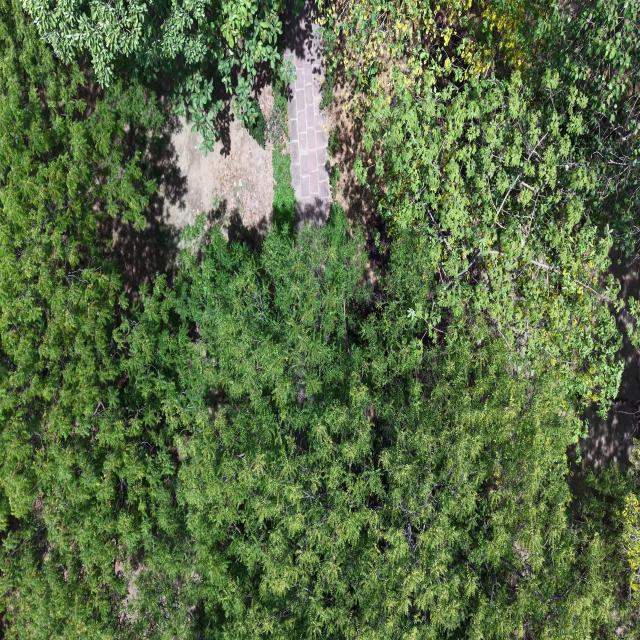DRY_AREA: (103, 99, 274, 297), (102, 106, 273, 299), (102, 113, 274, 301), (103, 112, 273, 297), (286, 0, 388, 284), (285, 0, 387, 283), (288, 0, 388, 284), (285, 0, 384, 262), (569, 308, 639, 499), (327, 74, 389, 286), (328, 76, 389, 283), (167, 118, 273, 234), (572, 309, 639, 490), (572, 309, 639, 488), (285, 0, 331, 226), (580, 311, 639, 472)
PATHWAYS: (285, 0, 331, 227)
VEGETATION_TREE: (0, 0, 639, 639), (74, 212, 624, 637), (135, 211, 624, 638), (326, 2, 639, 409), (326, 0, 639, 400), (0, 0, 176, 638), (326, 0, 639, 250), (24, 0, 284, 152), (485, 2, 639, 252), (268, 79, 295, 231), (273, 146, 295, 229)
